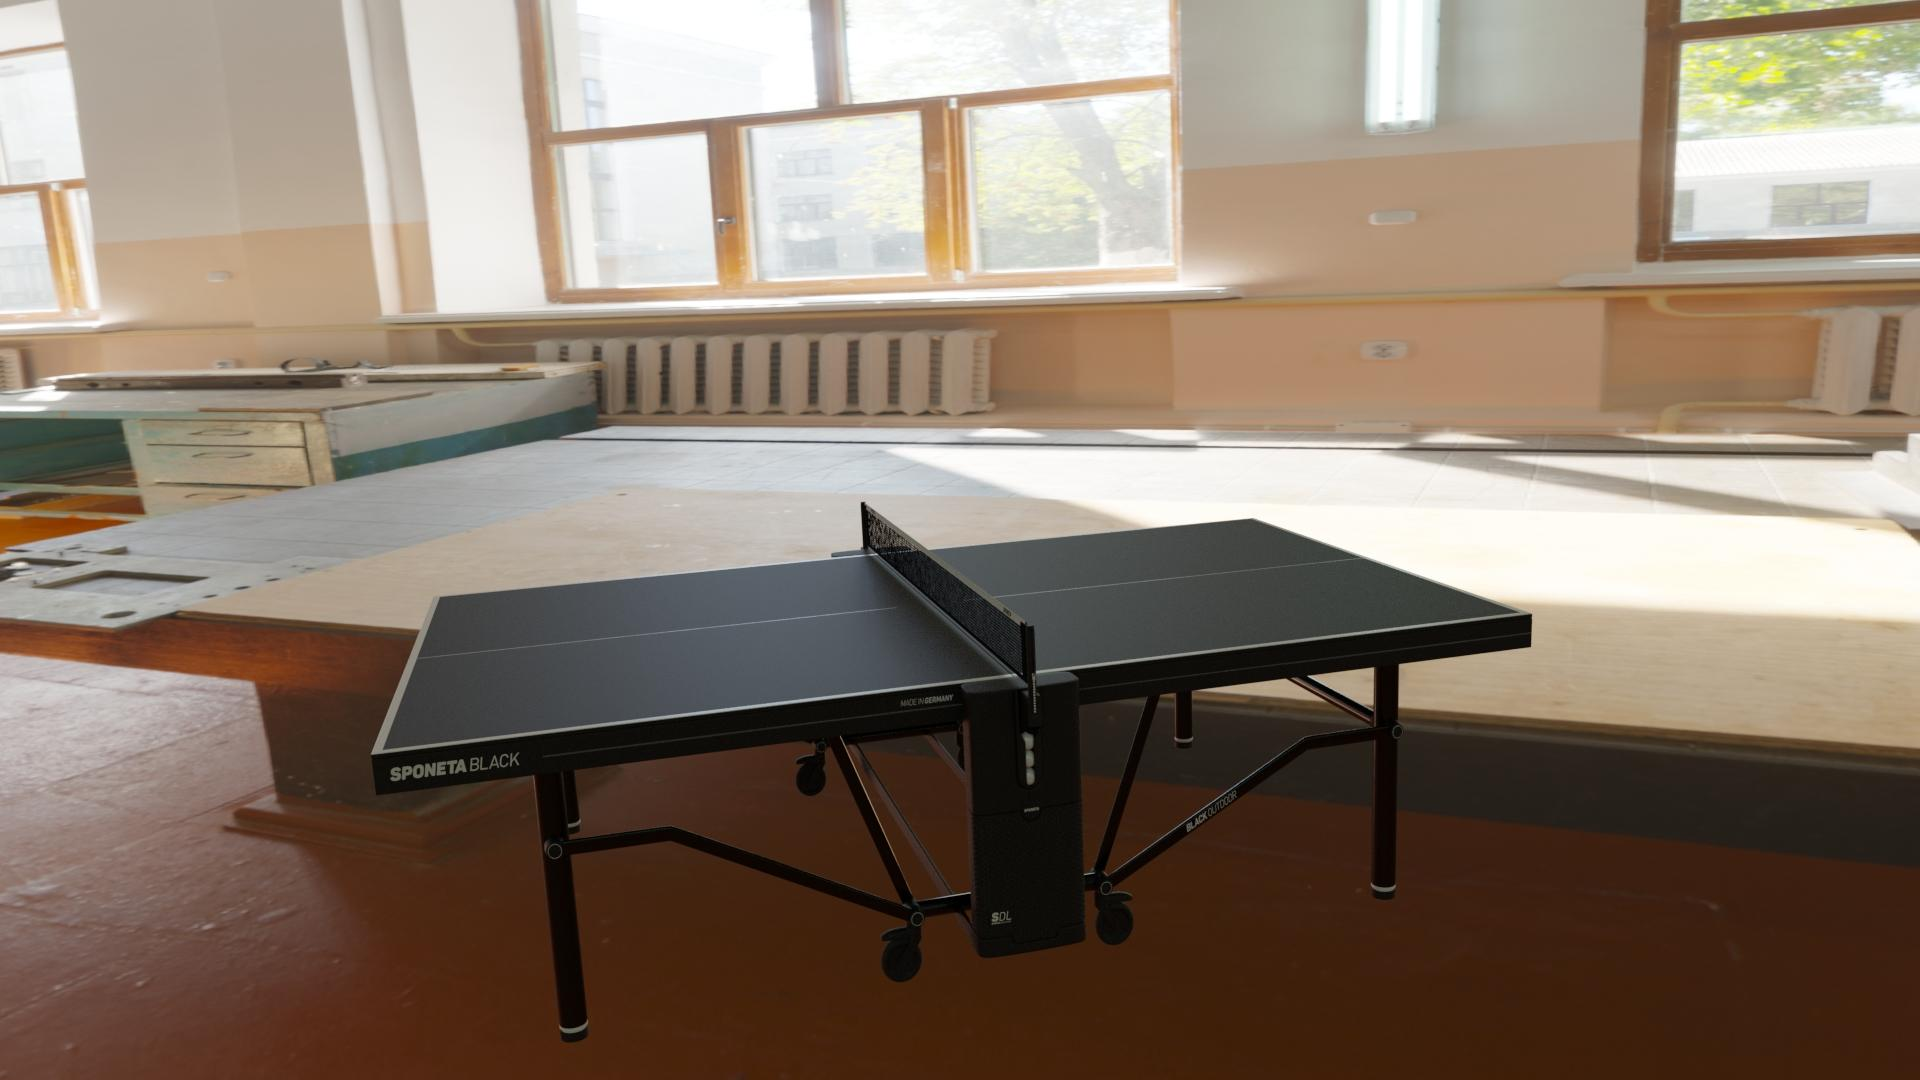table: (382, 518, 1520, 750)
